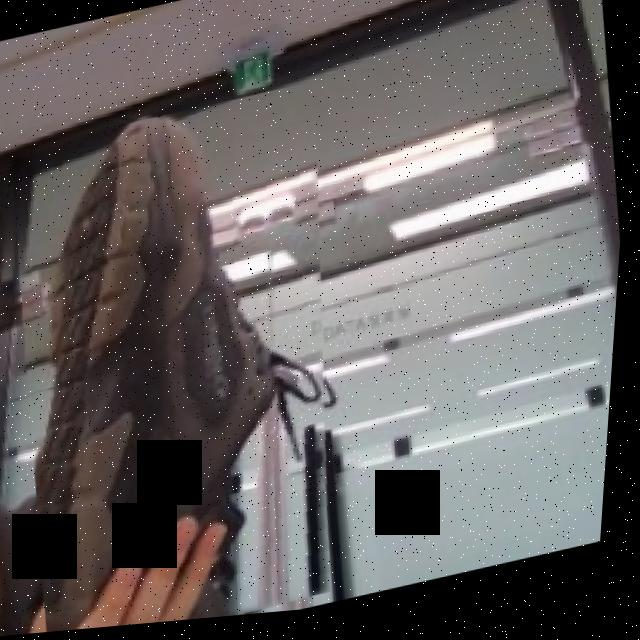shoe: (0, 81, 390, 639)
